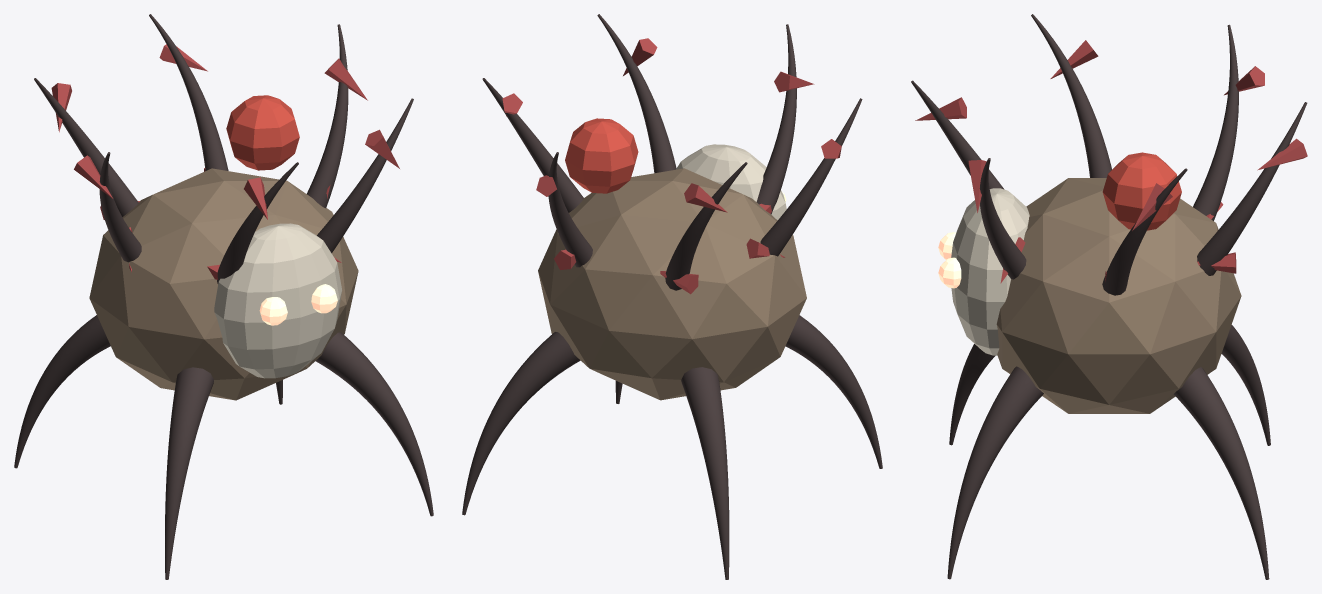
Rendered from thornling.glb.
3 renders of one model, left to right at view 1: azimuth 30°, elevation 25°; view 2: azimuth 150°, elevation 25°; view 3: azimuth 270°, elevation 25°, orthographic. The views are drawn at different scales.
Visible parts, largest first — view 1: thornling; view 2: thornling; view 3: thornling.
Part boxes in pixels (x1=…): thornling: x1=14, y1=14, x2=433, y2=579; thornling: x1=462, y1=14, x2=882, y2=579; thornling: x1=911, y1=14, x2=1307, y2=579.
Size of the model in its own units: 0.57 by 0.7017 by 0.5997.
